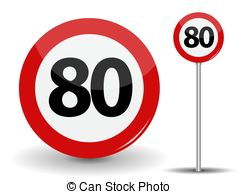Speed_limit_80km: (17, 18, 161, 159), (173, 13, 225, 63)
